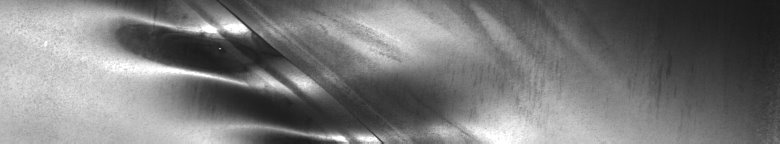ke: (112, 4, 384, 136)
